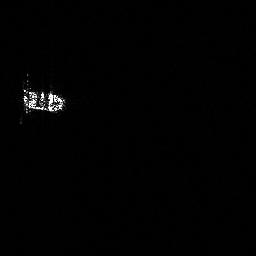ship: (19, 82, 69, 117)
